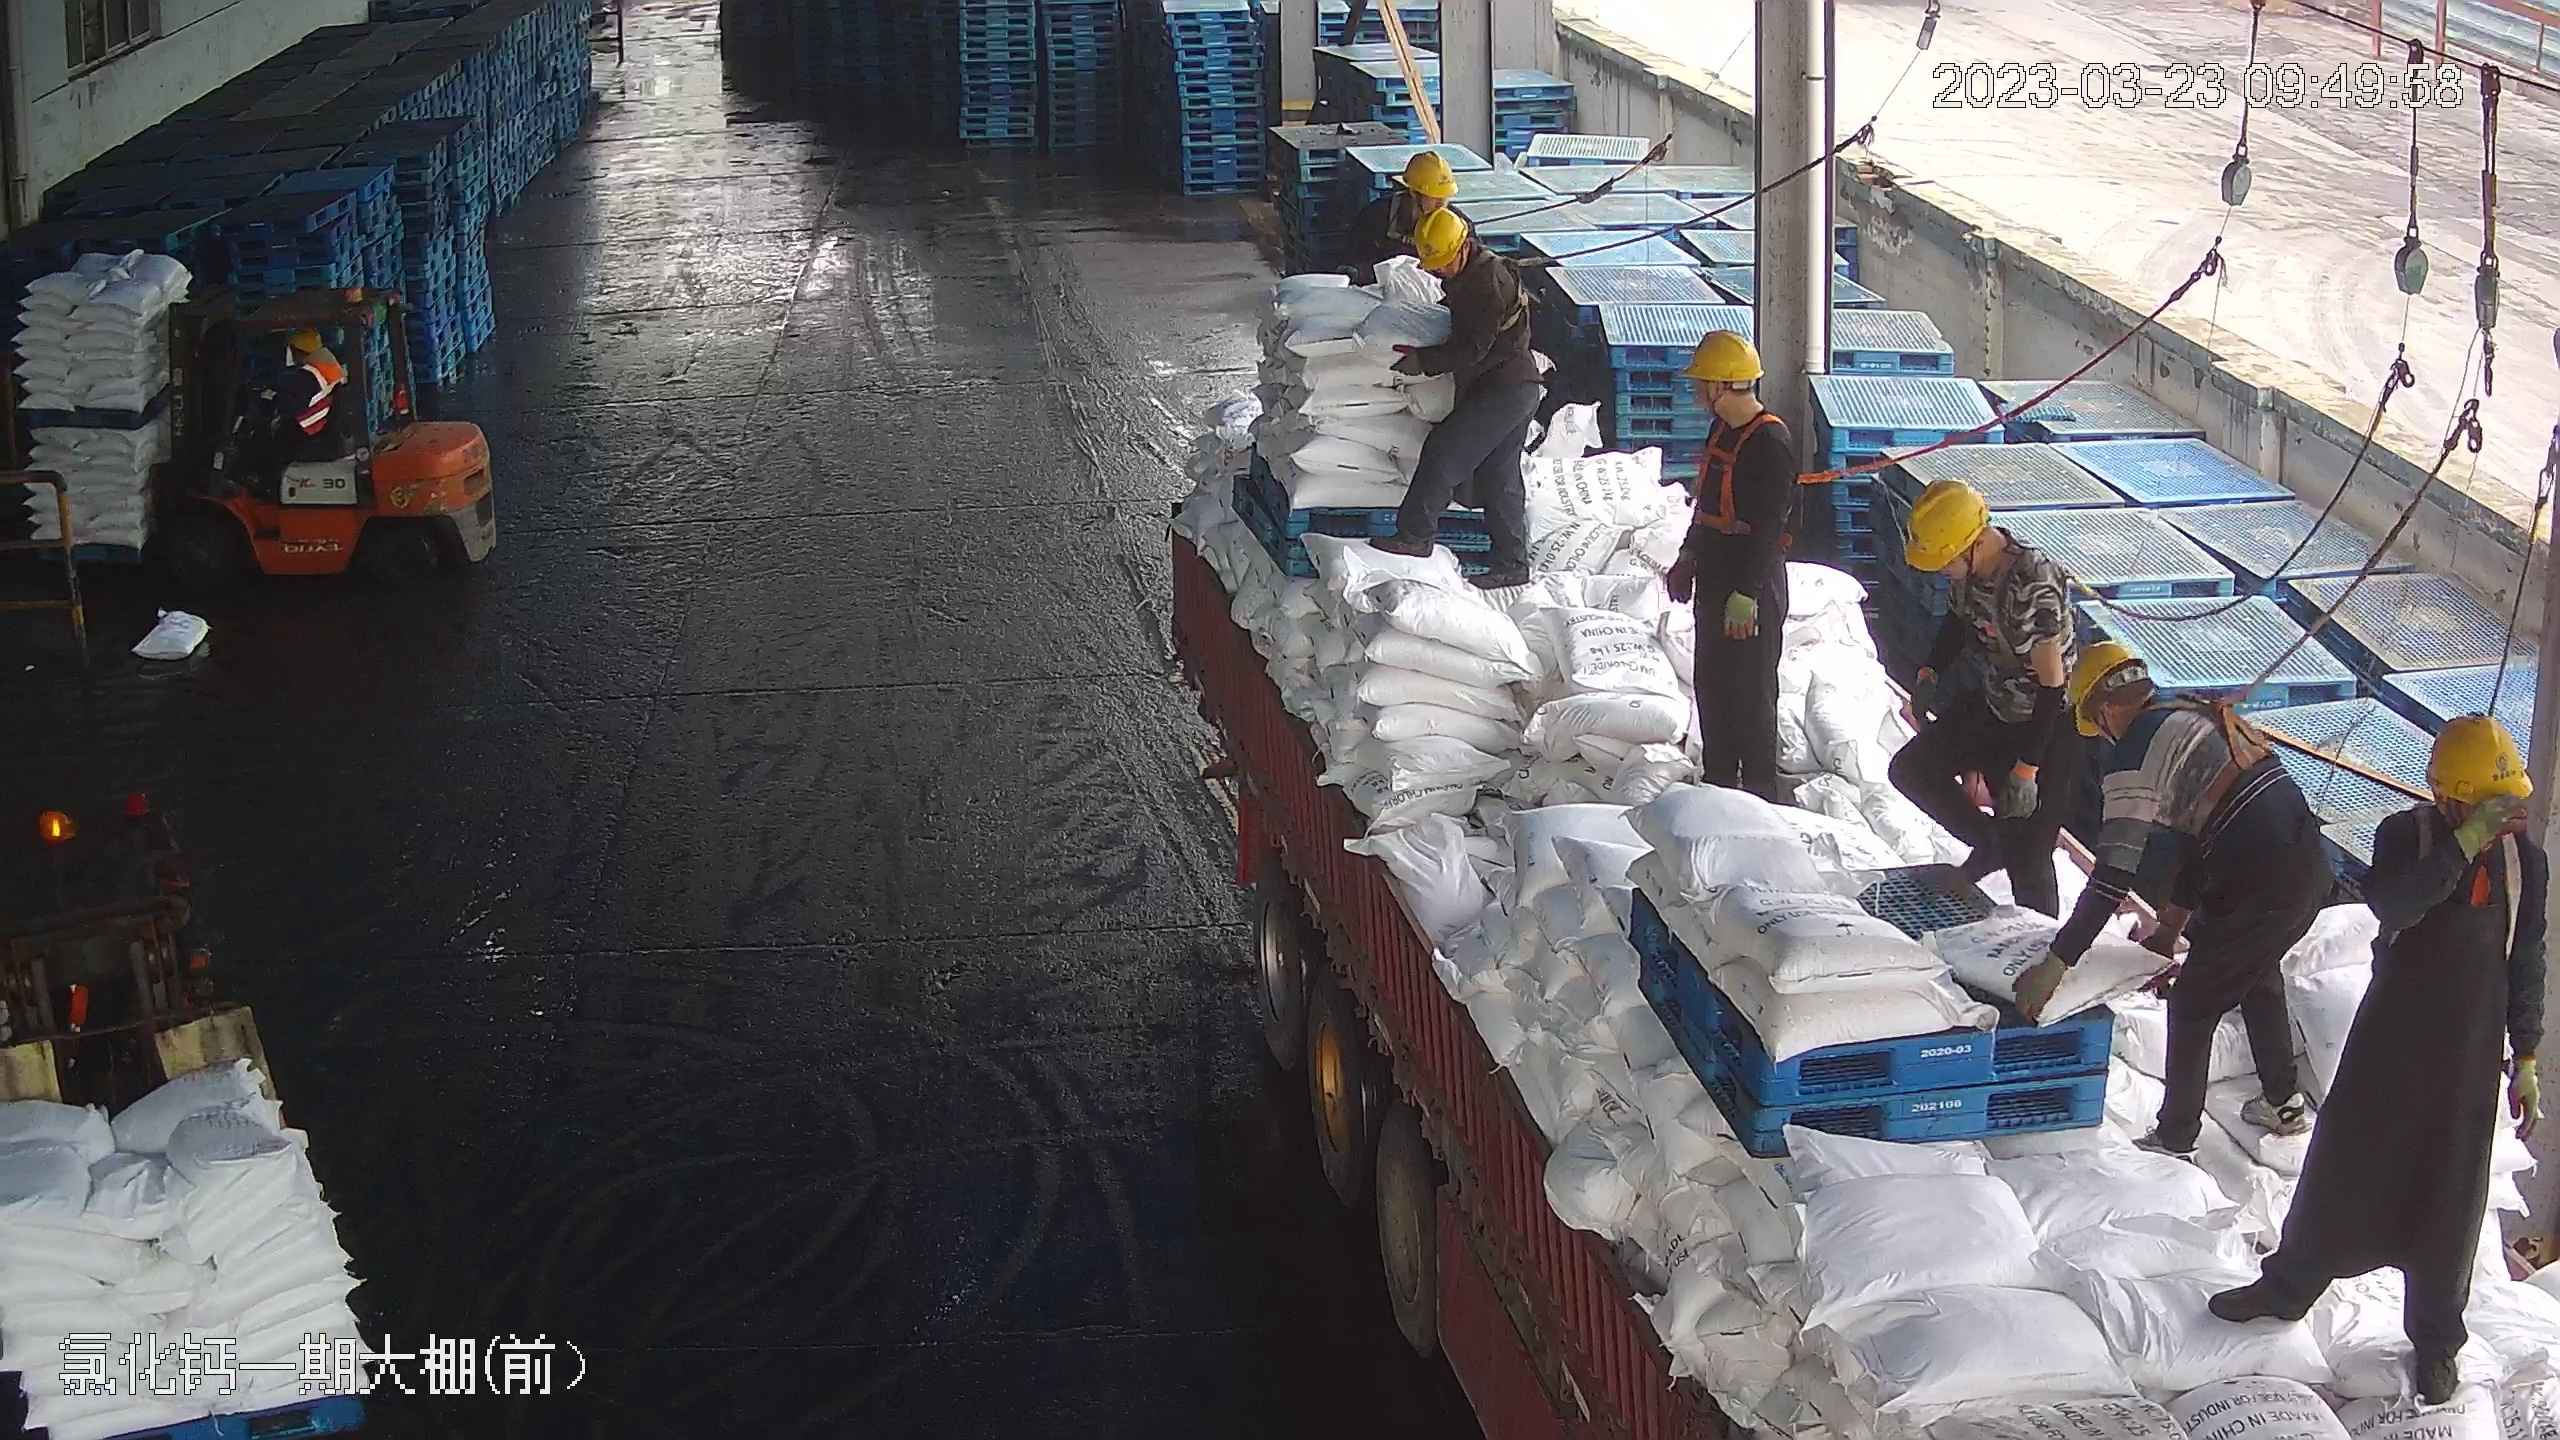belt: (2142, 693, 2287, 830), (1688, 410, 1817, 538), (2404, 804, 2536, 927), (1961, 541, 2077, 655), (1447, 240, 1542, 337), (1381, 192, 1419, 248)
head: (2354, 708, 2543, 922), (2063, 642, 2240, 791), (1908, 475, 2066, 622), (1676, 328, 1801, 489), (1400, 202, 1528, 321), (1360, 146, 1459, 239), (271, 326, 338, 398)
helmet: (1907, 476, 2062, 619), (1676, 327, 1799, 483), (2414, 709, 2531, 806), (2062, 634, 2149, 738), (1902, 475, 1991, 570), (1679, 327, 1764, 383), (1410, 207, 1470, 271), (1396, 148, 1455, 198), (289, 325, 327, 354)
people: (2207, 700, 2550, 1402), (2018, 635, 2331, 1156), (1888, 472, 2087, 934), (1656, 328, 1803, 798), (1391, 205, 1552, 588), (236, 324, 341, 479)
truck: (1146, 148, 2528, 1440)
